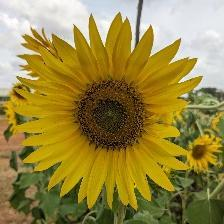sunflower: (24, 12, 200, 211), (187, 134, 224, 174), (2, 100, 21, 135), (9, 83, 34, 108), (213, 109, 224, 134)
